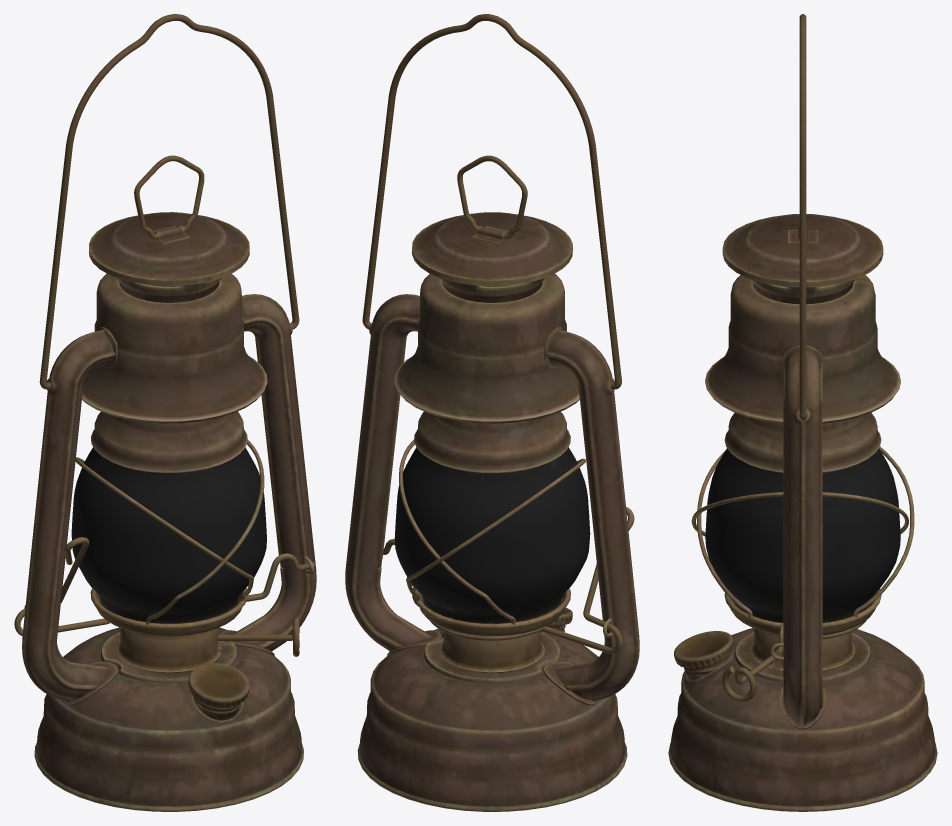
The model's file is Lantern_01.glb.
3 views of the same model, side by side, from view 1: azimuth 30°, elevation 25°; view 2: azimuth 150°, elevation 25°; view 3: azimuth 270°, elevation 25° (orthographic).
Parts seen in each view (by area): view 1: Lantern_01, Lantern_01_glass; view 2: Lantern_01, Lantern_01_glass; view 3: Lantern_01, Lantern_01_glass.
Part boxes in pixels (x1=…): Lantern_01: x1=14, y1=14, x2=316, y2=811; Lantern_01_glass: x1=71, y1=447, x2=266, y2=623; Lantern_01: x1=345, y1=14, x2=639, y2=811; Lantern_01_glass: x1=394, y1=447, x2=590, y2=623; Lantern_01: x1=668, y1=14, x2=937, y2=811; Lantern_01_glass: x1=705, y1=448, x2=900, y2=622.
Size of the model in its own units: 0.1221 by 0.2942 by 0.0972.
2 materials, 2 textured.
